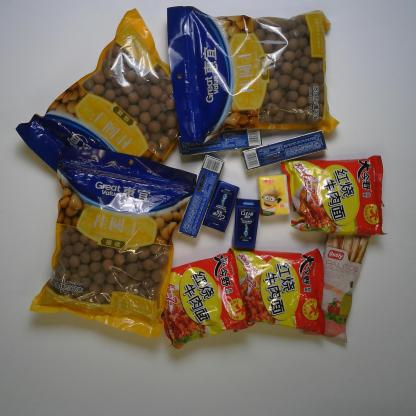Dessert: (301, 229, 374, 345)
Dried Food: (25, 140, 199, 342), (11, 6, 182, 176), (162, 4, 344, 153)
Instant Noodles: (158, 245, 257, 352), (278, 152, 390, 238), (229, 244, 328, 339)
Personal Hygiene: (176, 150, 226, 242), (238, 128, 329, 174), (174, 124, 264, 161), (200, 178, 241, 234), (230, 195, 263, 251)
Tissue: (255, 171, 292, 220)
